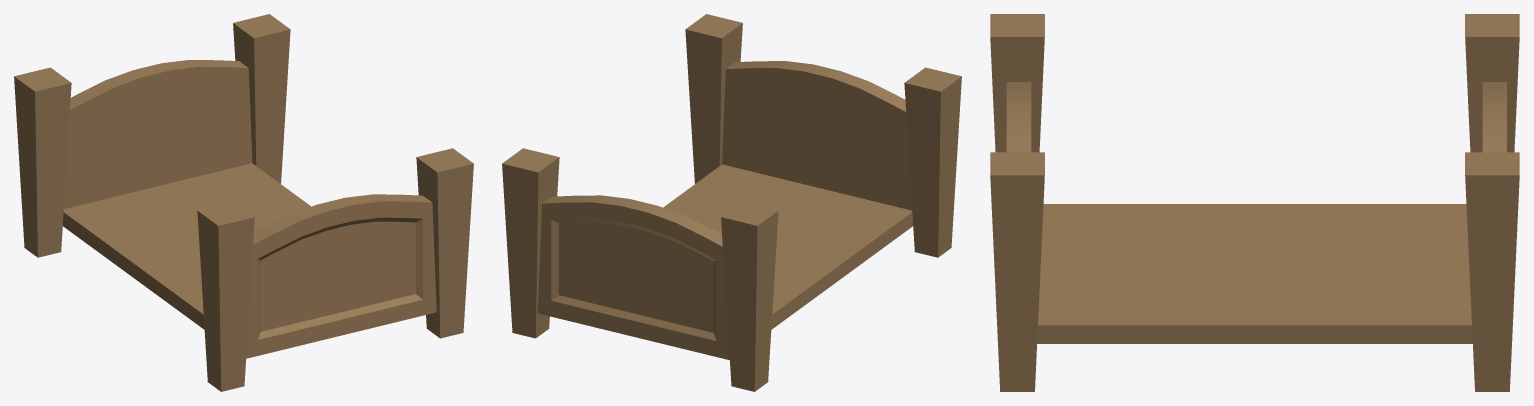
File: BedFrame.fbx
The picture shows the model from 3 angles, left to right: view 1: azimuth 30°, elevation 25°; view 2: azimuth 150°, elevation 25°; view 3: azimuth 270°, elevation 25°; orthographic projection. The views are drawn at different scales.
Visible parts, largest first — view 1: bed; view 2: bed; view 3: bed.
Boxes of the visible parts, box(x1,y1,x2,y2) form: bed: box(14, 14, 473, 391); bed: box(502, 14, 961, 391); bed: box(990, 14, 1519, 391).
Size of the model in its own units: 10.04 by 6.4 by 13.91.
